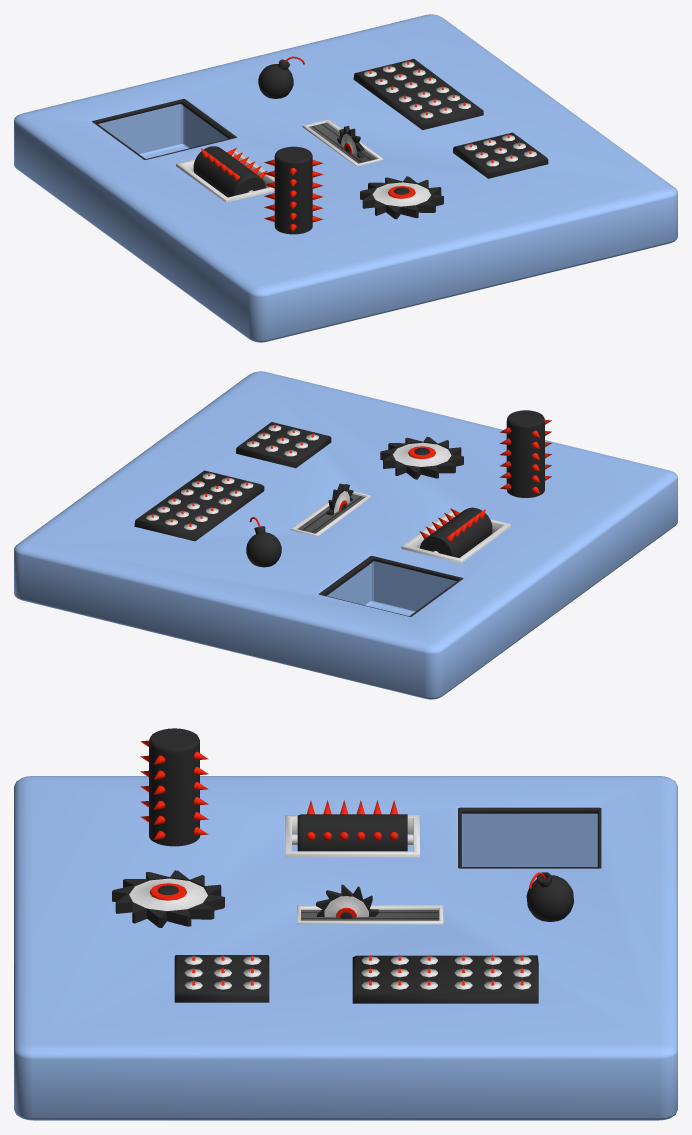
The model's file is HyperObstaclesSketchfab.fbx.
3 renders of one model, top to bottom at view 1: azimuth 30°, elevation 25°; view 2: azimuth 150°, elevation 25°; view 3: azimuth 270°, elevation 25°, orthographic. The views are drawn at different scales.
Parts seen in each view (by area): view 1: PlatformBG, spike-obstacle.001, CylinderObstacle, spike-obstacle, gear-base, CylinderObstacle.001, SpikeBase, Bomb, SpiralBase, GridGround, gear-base.001; view 2: PlatformBG, spike-obstacle.001, CylinderObstacle, spike-obstacle, gear-base, CylinderObstacle.001, SpikeBase, SpiralBase, Bomb, GridGround, gear-base.001; view 3: PlatformBG, spike-obstacle.001, CylinderObstacle, CylinderObstacle.001, gear-base, spike-obstacle, SpikeBase, Bomb, GridGround, SpiralBase, gear-base.001.
Boxes of the visible parts, box(x1,y1,x2,y2) form: PlatformBG: box(14, 14, 677, 342); spike-obstacle.001: box(353, 59, 483, 130); CylinderObstacle: box(264, 146, 323, 234); spike-obstacle: box(453, 132, 548, 178); gear-base: box(360, 176, 443, 219); CylinderObstacle.001: box(193, 146, 267, 197); SpikeBase: box(302, 119, 383, 166); Bomb: box(258, 56, 304, 98); SpiralBase: box(176, 149, 274, 202); GridGround: box(92, 98, 236, 159); gear-base.001: box(337, 125, 364, 158); PlatformBG: box(14, 371, 677, 699); spike-obstacle.001: box(134, 470, 264, 541); CylinderObstacle: box(499, 410, 551, 497); spike-obstacle: box(236, 422, 331, 468); gear-base: box(380, 436, 463, 479); CylinderObstacle.001: box(419, 507, 492, 557); SpikeBase: box(290, 491, 371, 536); SpiralBase: box(401, 510, 510, 563); Bomb: box(246, 517, 281, 567); GridGround: box(318, 556, 463, 616); gear-base.001: box(326, 483, 353, 515); PlatformBG: box(14, 776, 677, 1120); spike-obstacle.001: box(352, 955, 538, 1003); CylinderObstacle: box(140, 728, 208, 846); CylinderObstacle.001: box(297, 800, 407, 851); gear-base: box(112, 870, 224, 927); spike-obstacle: box(174, 955, 269, 1002); SpikeBase: box(297, 905, 443, 924); Bomb: box(526, 872, 573, 921); GridGround: box(458, 807, 601, 868); SpiralBase: box(285, 815, 419, 857); gear-base.001: box(316, 884, 378, 918).
Size of the model in its own units: 1650 by 467 by 1650.
